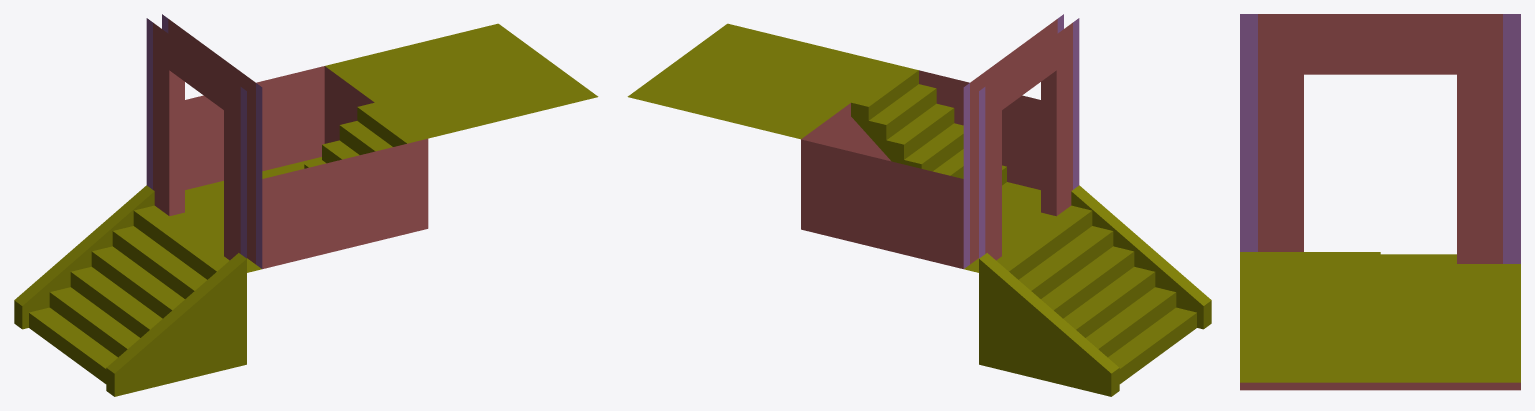
File: Porch_base_BP.fbx
3 renders of one model, left to right at view 1: azimuth 30°, elevation 25°; view 2: azimuth 150°, elevation 25°; view 3: azimuth 270°, elevation 25°, orthographic. The views are drawn at different scales.
Visible parts, largest first — view 1: ladder_floor, outerWall1, outerWall, outerWall2, outerPillar, outerWall3; view 2: ladder_floor, outerWall2, outerWall, outerWall1, outerPillar, outerWall3; view 3: ladder_floor, outerWall, outerPillar, outerWall3.
Boxes of the visible parts, x1,y1,x2,y2 form: ladder_floor: (14, 23, 598, 396); outerWall1: (262, 138, 428, 268); outerWall: (153, 19, 255, 264); outerWall2: (185, 66, 324, 189); outerPillar: (146, 14, 262, 268); outerWall3: (324, 66, 374, 143); ladder_floor: (627, 23, 1211, 396); outerWall2: (801, 139, 963, 268); outerWall: (970, 19, 1072, 264); outerWall1: (919, 70, 1040, 189); outerPillar: (963, 14, 1079, 268); outerWall3: (801, 103, 890, 161); ladder_floor: (1240, 252, 1520, 382); outerWall: (1258, 14, 1502, 263); outerPillar: (1240, 14, 1520, 263); outerWall3: (1240, 382, 1520, 390).
Bounding box in the file's own units: 2.79 × 1.5 × 1.
